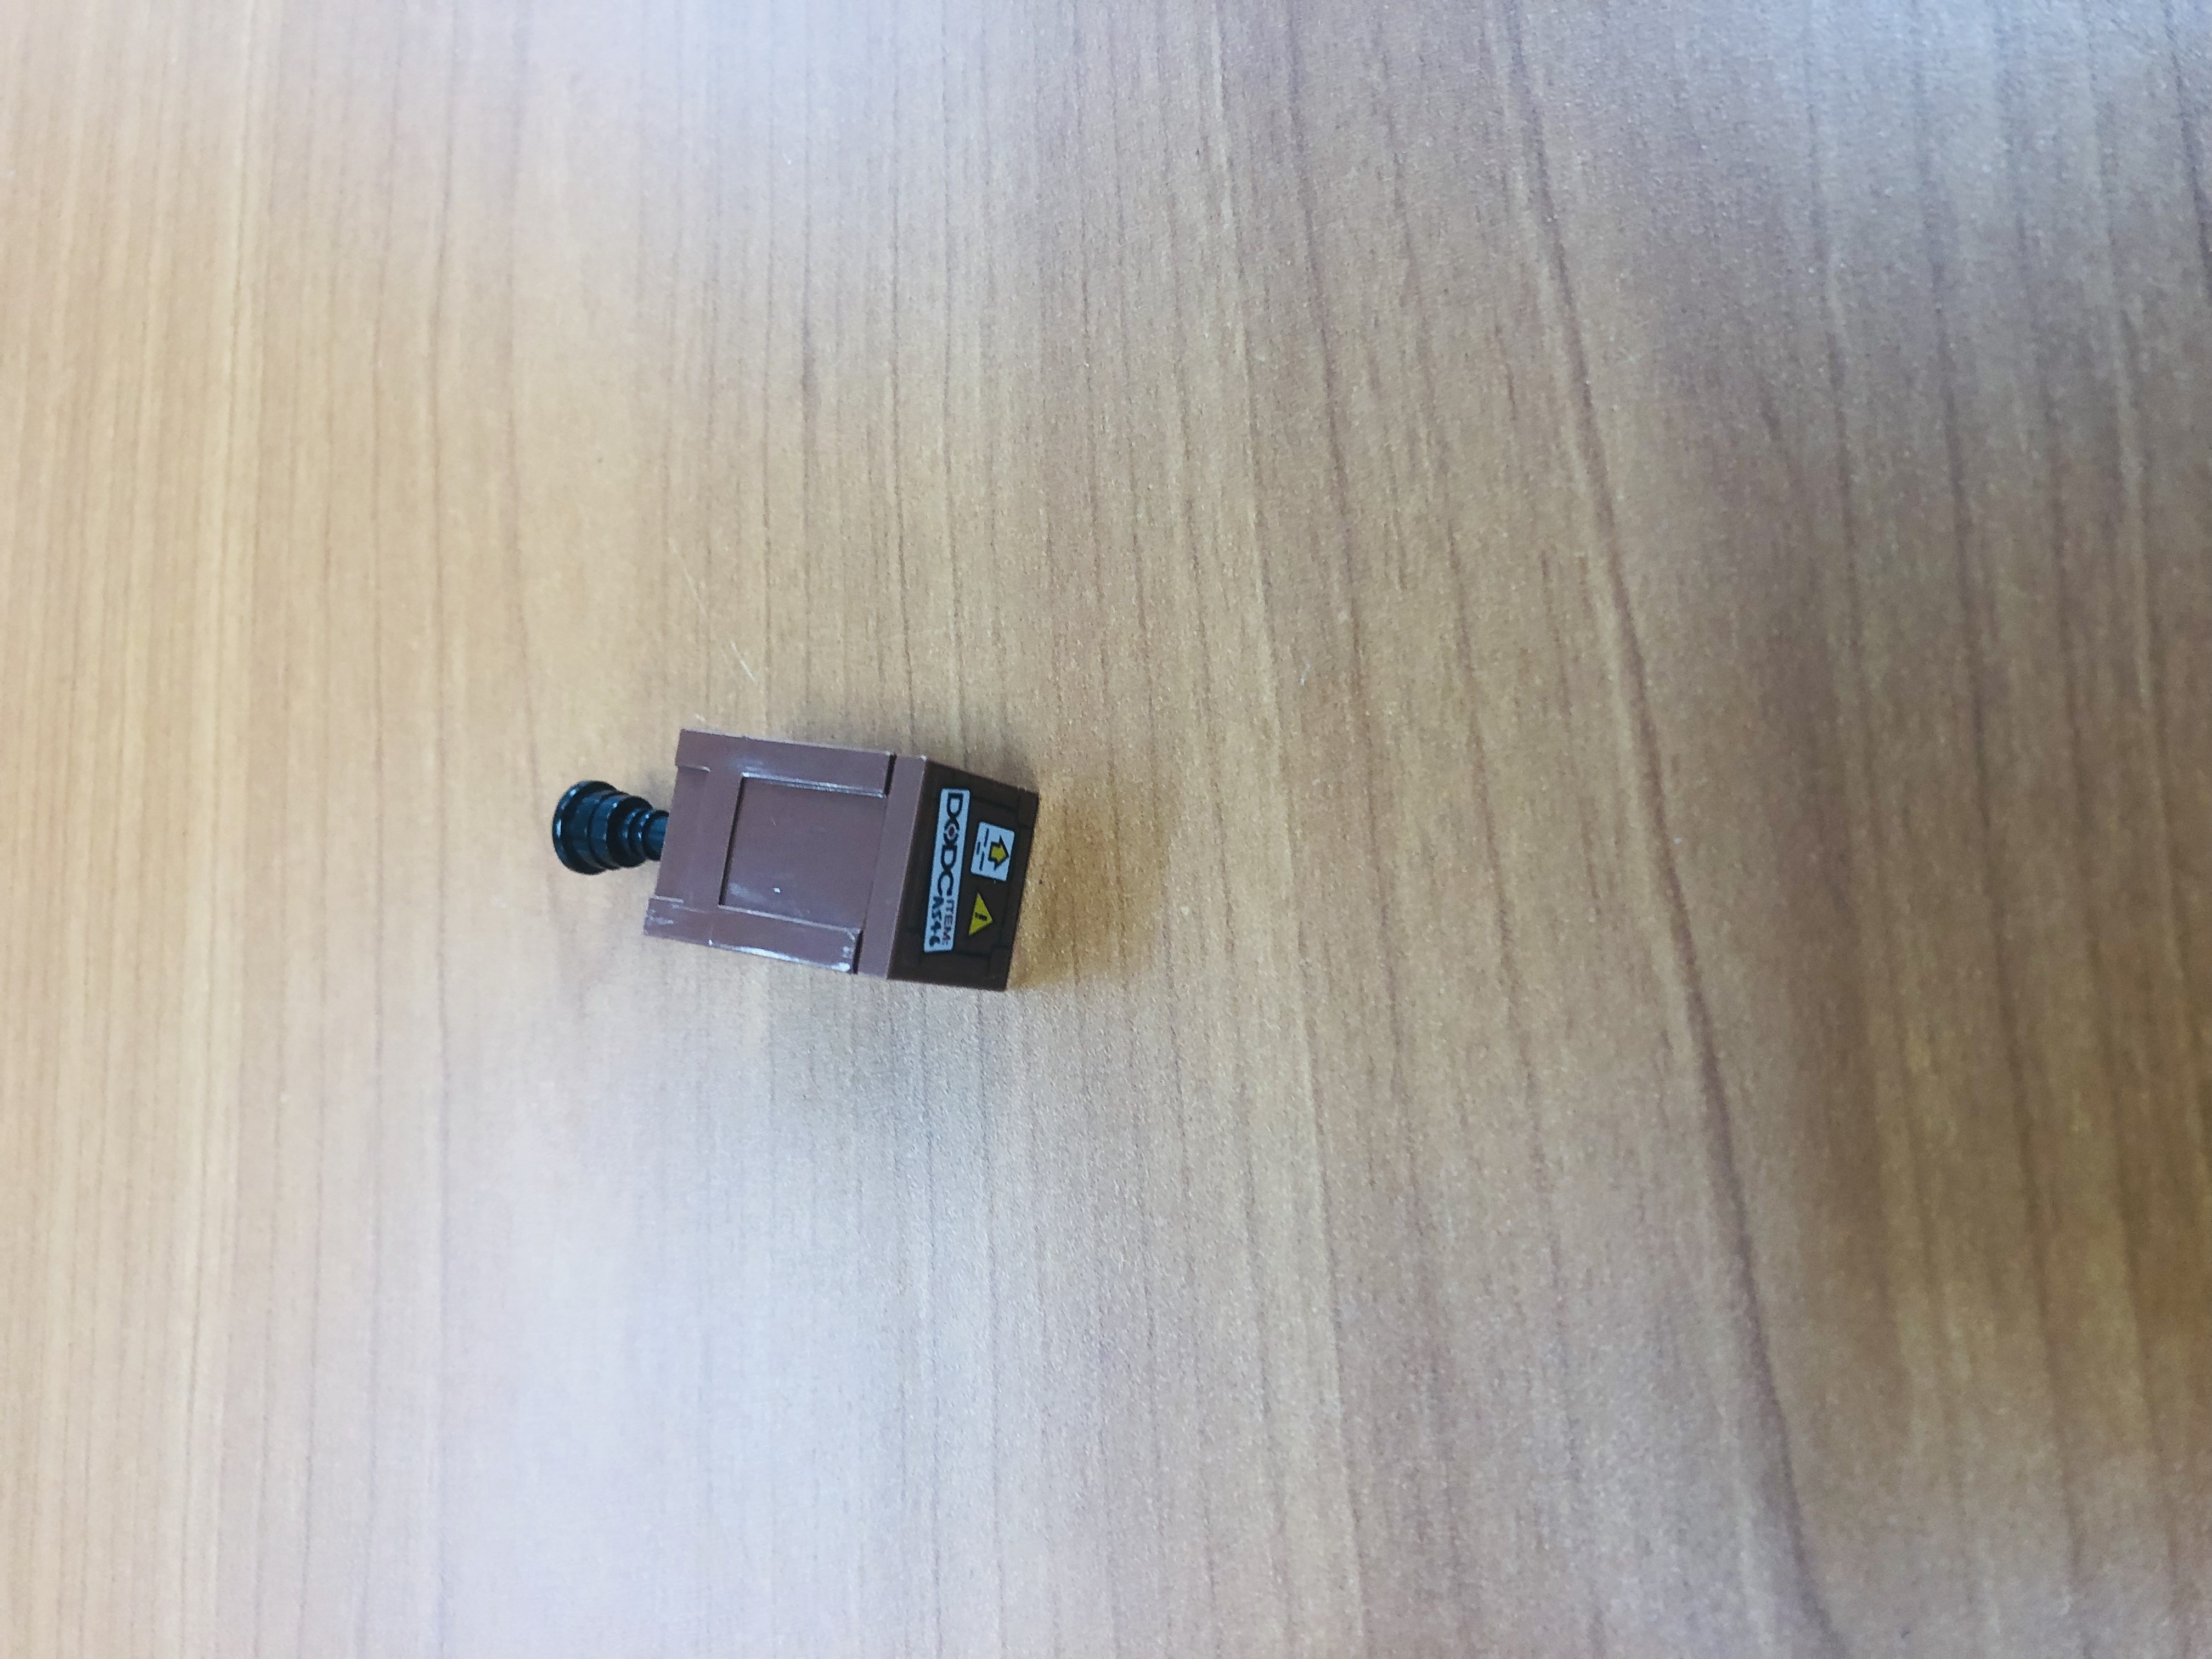box: (472, 686, 1045, 1028)
